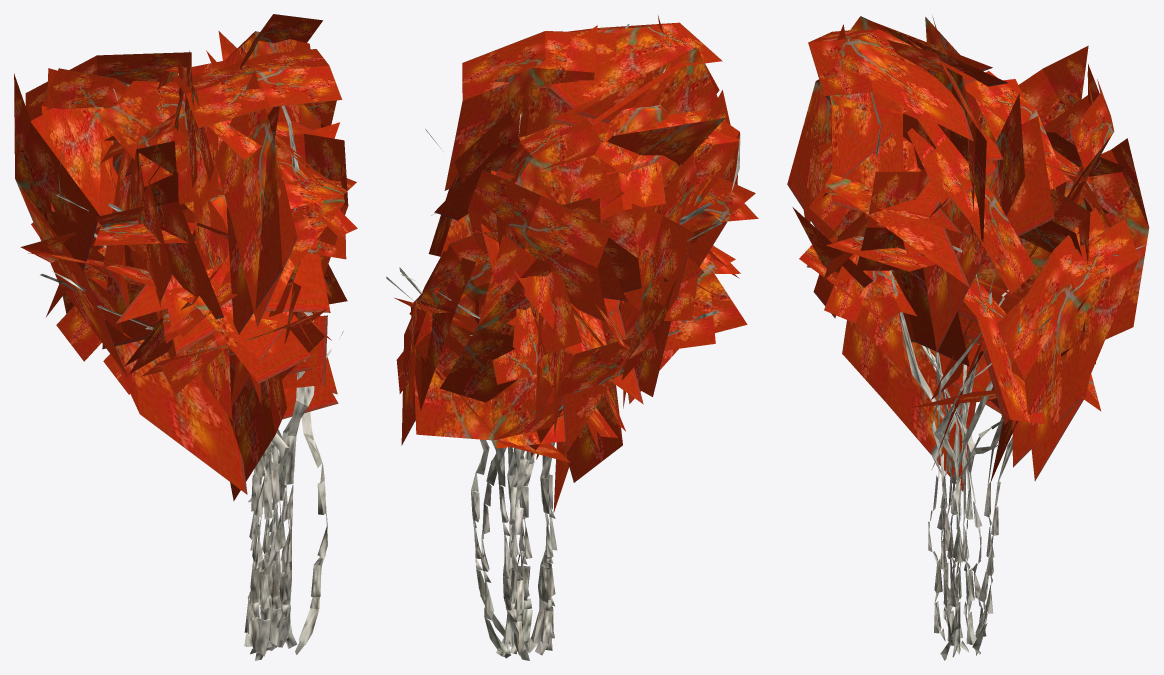
The model's file is bush_0.obj.
3 renders of one model, left to right at view 1: azimuth 30°, elevation 25°; view 2: azimuth 150°, elevation 25°; view 3: azimuth 270°, elevation 25°, orthographic. The views are drawn at different scales.
Parts seen in each view (by area): view 1: Bush_1_0; view 2: Bush_1_0; view 3: Bush_1_0.
Part boxes in pixels (x1,y1,x2,y2): Bush_1_0: (14,14,357,660); Bush_1_0: (386,15,758,660); Bush_1_0: (787,16,1149,660).
Size of the model in its own units: 0.3052 by 0.5888 by 0.324.
1 material, 1 textured.
